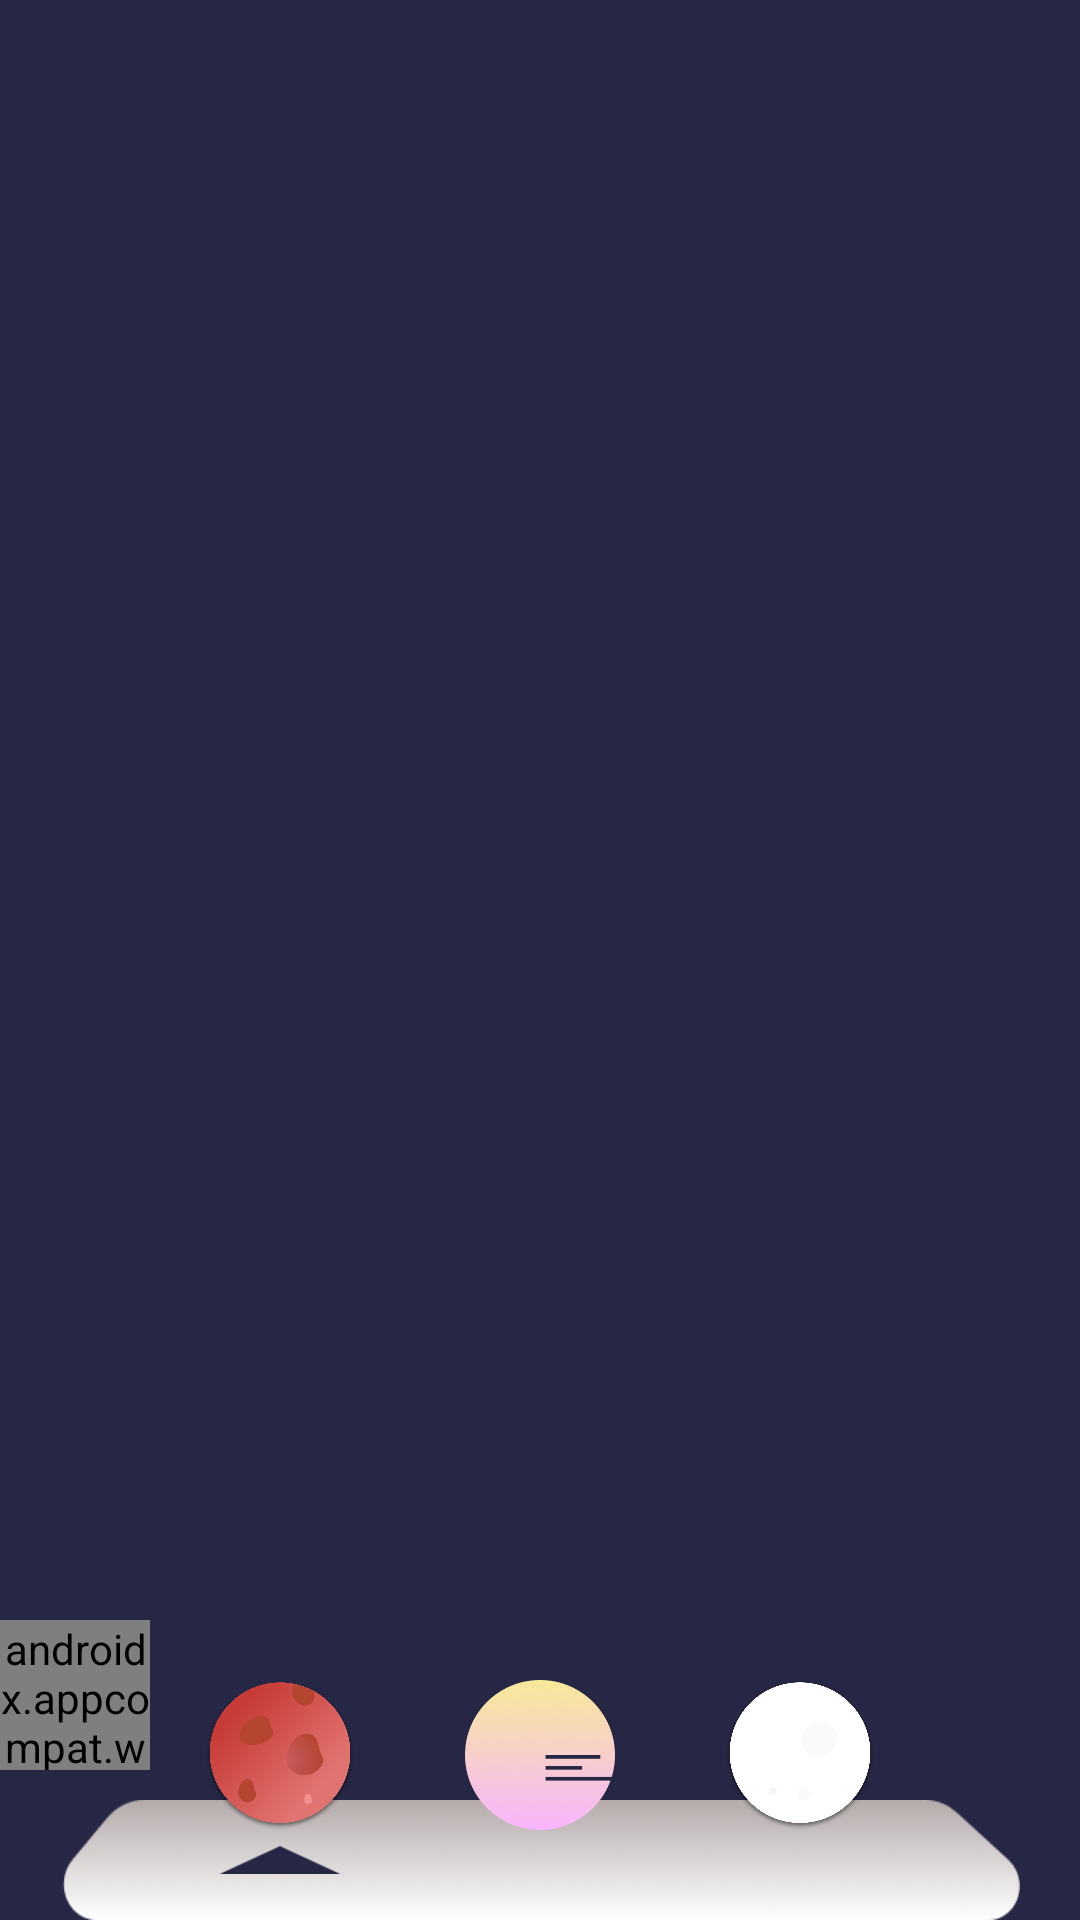

Icon click points for this 1080×1920 phone screenshot, format [x,y]:
mars: [280,1756]
moon: [800,1756]
